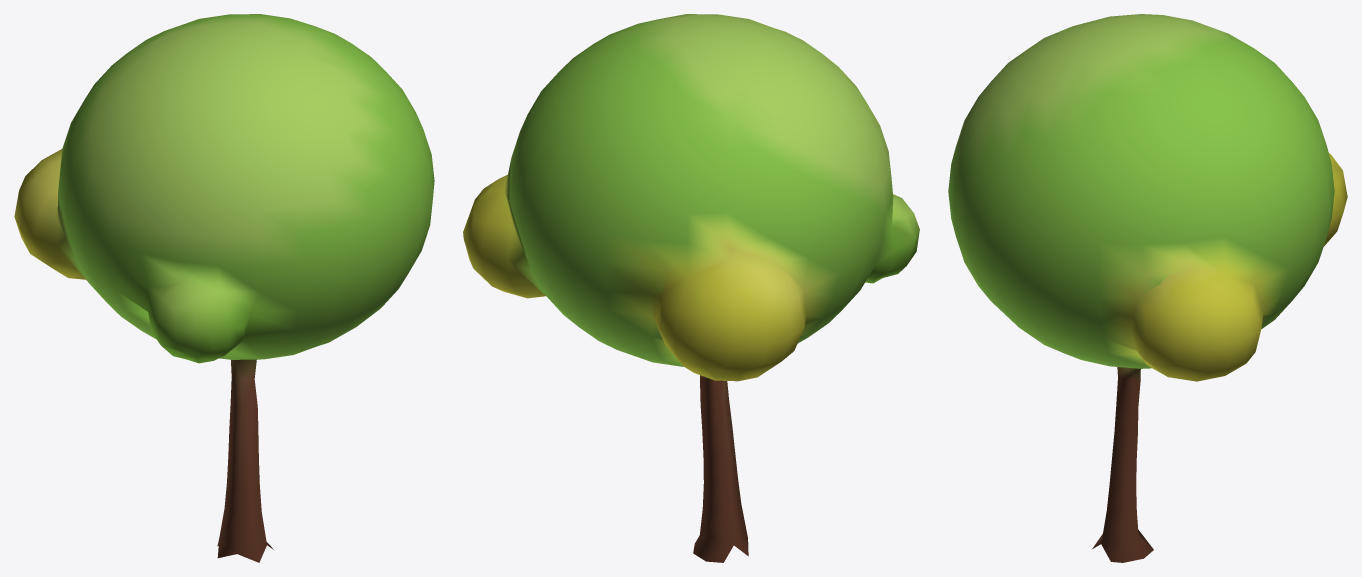
The model's file is lollipop-tree-101-lod2.obj.
3 renders of one model, left to right at view 1: azimuth 30°, elevation 25°; view 2: azimuth 150°, elevation 25°; view 3: azimuth 270°, elevation 25°, orthographic. The views are drawn at different scales.
Parts seen in each view (by area): view 1: simplified; view 2: simplified; view 3: simplified.
Boxes of the visible parts, left/top/right/bottom form: simplified: left=14, top=14, right=434, bottom=562; simplified: left=463, top=14, right=919, bottom=562; simplified: left=948, top=14, right=1347, bottom=562.
Size of the model in its own units: 360 by 487 by 338.
